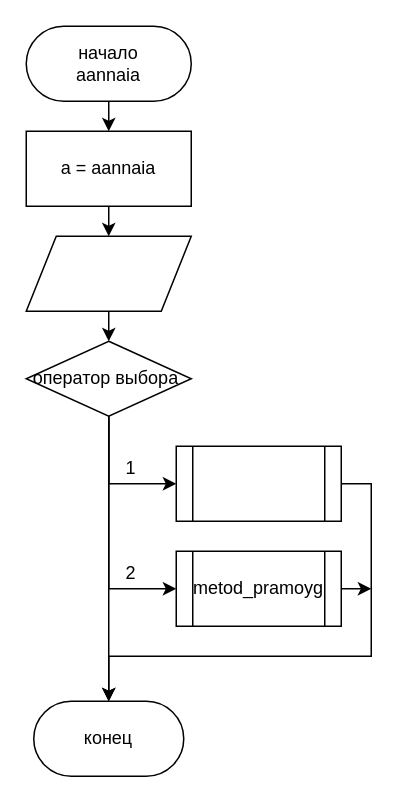
Image size: 410x803. Some labels were removed from this diagram. Here are the shapes that lost their labels. From the top down, the centre of each, then its label:
At pixel 108 273: "Ввод: a,b,i".
At pixel 258 483: "S = Fdop(b)-Fdop(a)".
